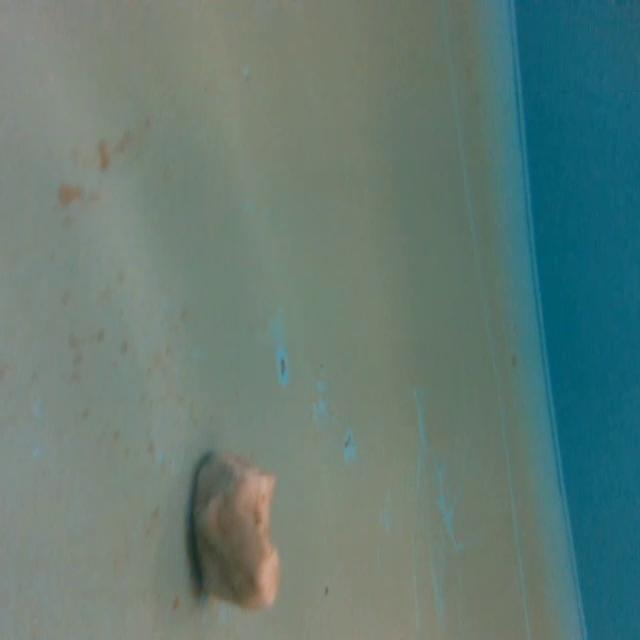rock: (185, 449, 288, 622)
